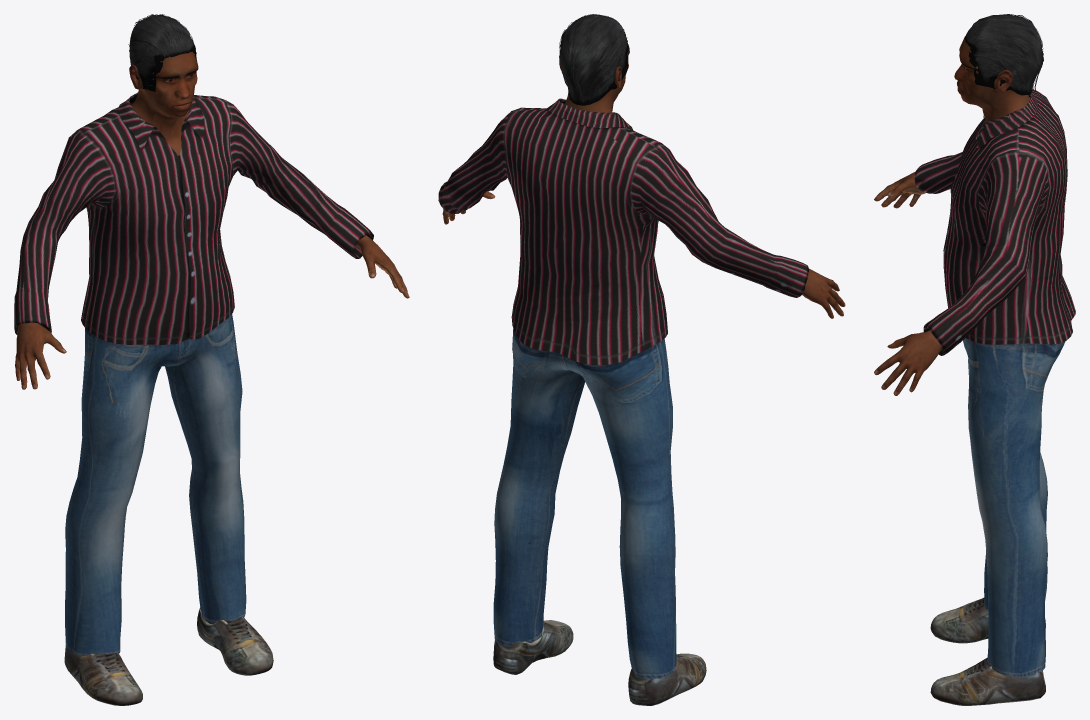
The model's file is h_ancien.glb.
3 views of the same model, side by side, from view 1: azimuth 30°, elevation 25°; view 2: azimuth 150°, elevation 25°; view 3: azimuth 270°, elevation 25° (orthographic). The views are drawn at different scales.
Parts seen in each view (by area): view 1: Human; view 2: Human; view 3: Human.
Part boxes in pixels (x1,y1,x2,y2): Human: [14, 14, 409, 705]; Human: [438, 14, 845, 705]; Human: [874, 14, 1075, 705].
Size of the model in its own units: 1.11 by 1.79 by 0.5028.
1 material, 1 textured.
